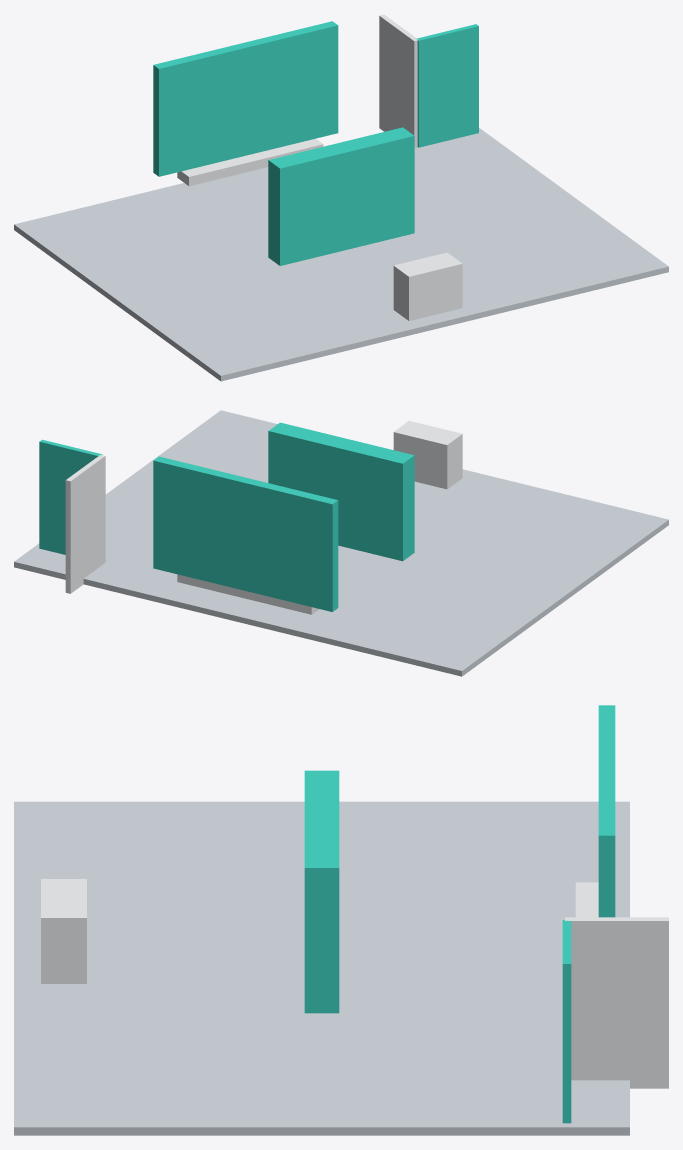
3 renders of one model, top to bottom at view 1: azimuth 30°, elevation 25°; view 2: azimuth 150°, elevation 25°; view 3: azimuth 270°, elevation 25°, orthographic. The views are drawn at different scales.
Visible parts, largest first — view 1: Exhibition Booth Concept; view 2: Exhibition Booth Concept; view 3: Exhibition Booth Concept.
Boxes of the visible parts, x1,y1,x2,y2 form: Exhibition Booth Concept: (14, 14, 668, 381); Exhibition Booth Concept: (14, 410, 668, 676); Exhibition Booth Concept: (14, 705, 668, 1135).
Size of the model in its own units: 10 by 2.9 by 8.51.
